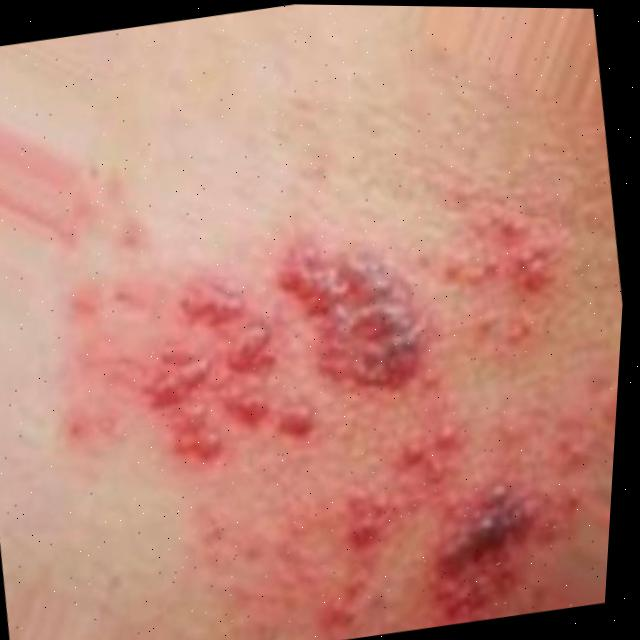Shingles: (302, 407, 575, 640), (129, 260, 324, 467), (260, 217, 447, 408), (430, 175, 585, 360)
